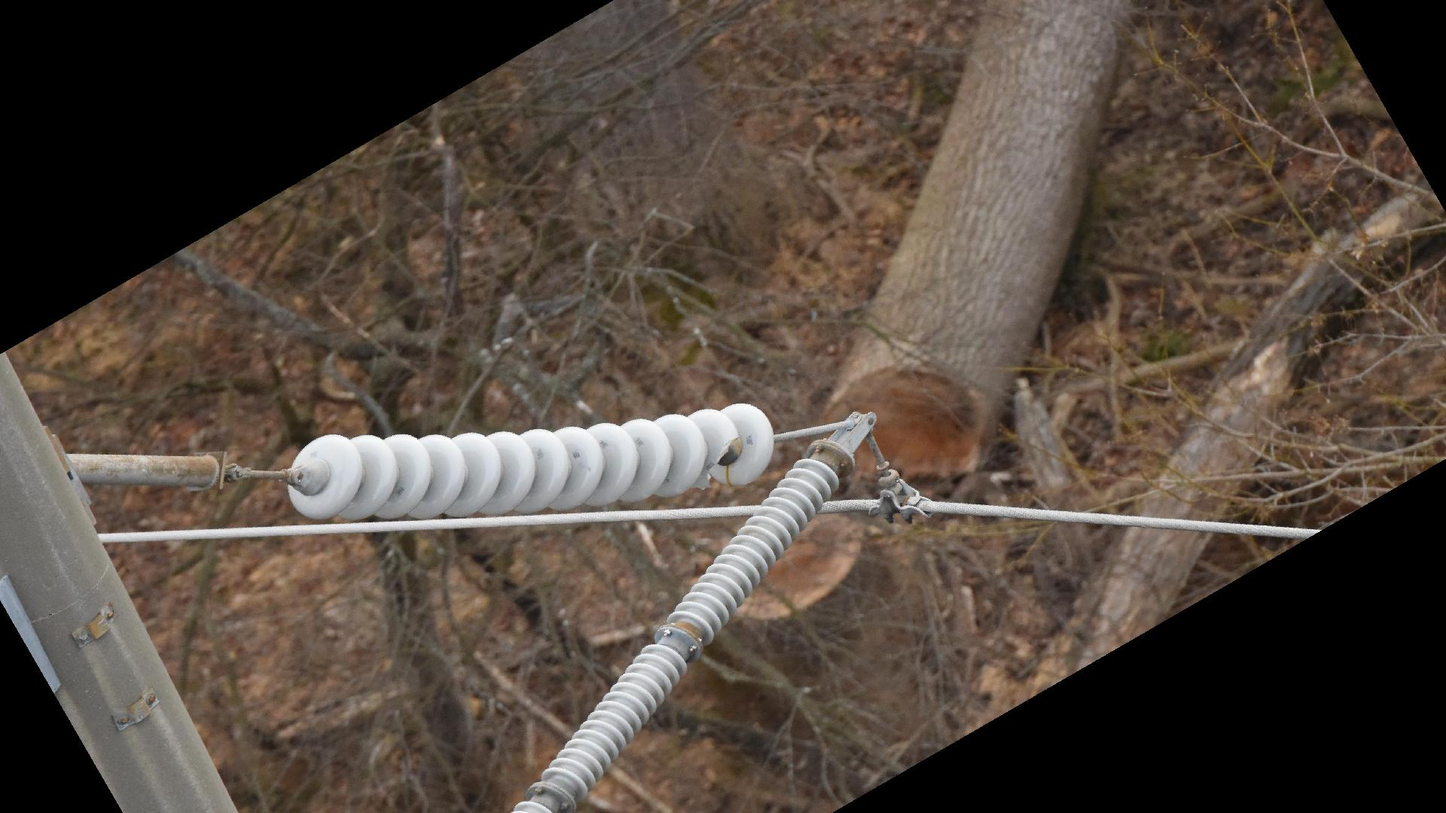insulator: (282, 397, 778, 525), (664, 455, 844, 650), (503, 639, 690, 813)
insulator_breakage: (700, 433, 741, 492)
